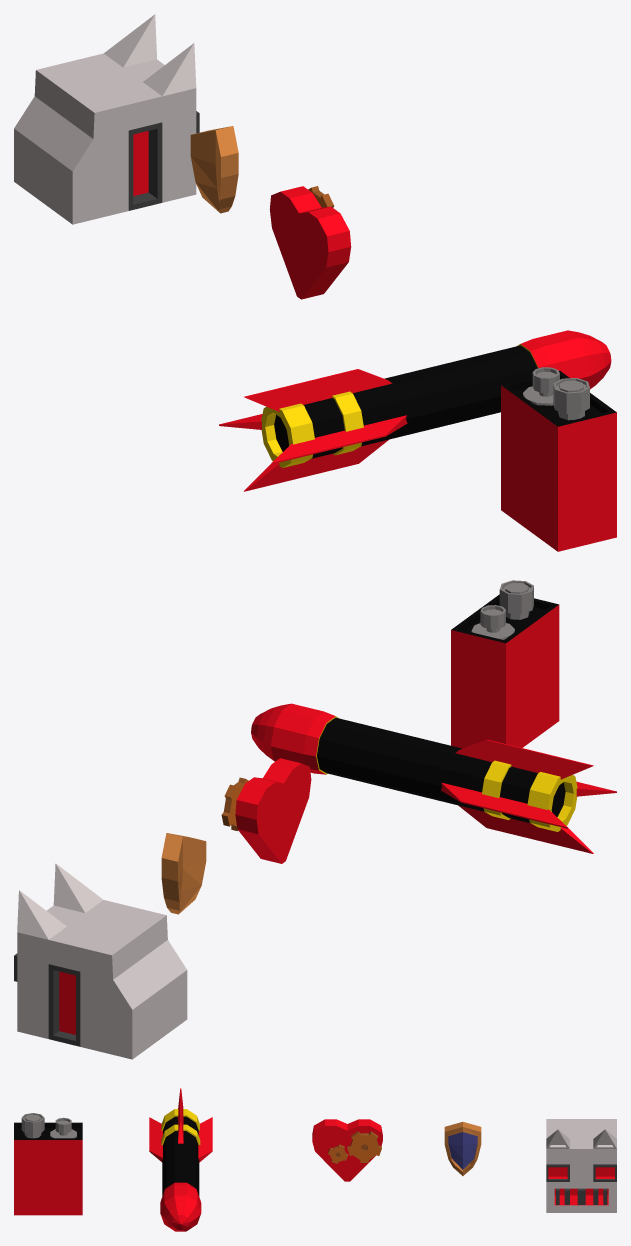
The model's file is Simples.fbx.
3 views of the same model, one above another, from view 1: azimuth 30°, elevation 25°; view 2: azimuth 150°, elevation 25°; view 3: azimuth 270°, elevation 25° (orthographic). The views are drawn at different scales.
Parts seen in each view (by area): view 1: CUBE, Missile, Batery, Heart, Shield; view 2: CUBE, Missile, Batery, Heart, Shield; view 3: Batery, CUBE, Missile, Heart, Shield.
Boxes of the visible parts, box(x1,y1,x2,y2) form: CUBE: box(14, 14, 199, 224); Missile: box(219, 330, 611, 491); Batery: box(501, 367, 616, 551); Heart: box(269, 186, 351, 299); Shield: box(190, 126, 238, 213); CUBE: box(14, 863, 187, 1059); Missile: box(251, 703, 616, 853); Batery: box(451, 580, 559, 748); Heart: box(221, 758, 311, 863); Shield: box(161, 833, 206, 914); Batery: box(14, 1113, 82, 1215); CUBE: box(546, 1119, 616, 1212); Missile: box(149, 1088, 212, 1231); Heart: box(312, 1119, 382, 1181); Shield: box(444, 1122, 481, 1175).
Size of the model in its own units: 1242 by 508 by 2937.
